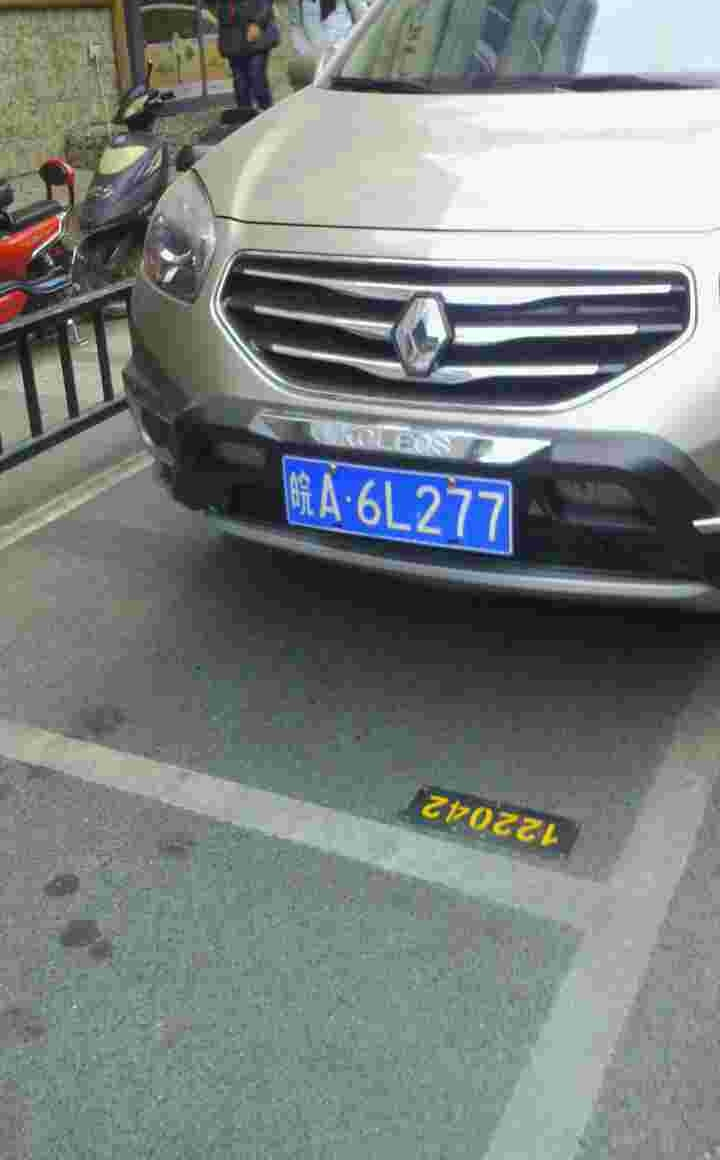plate: (279, 452, 516, 558)
